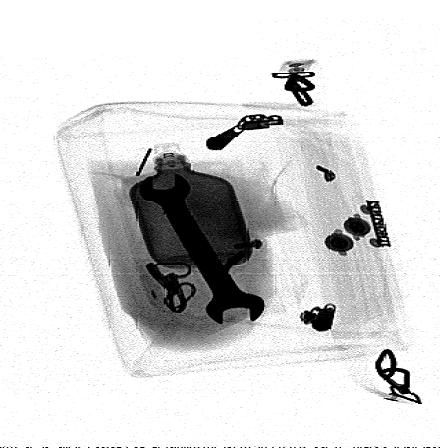Wrench: (141, 169, 268, 329)
